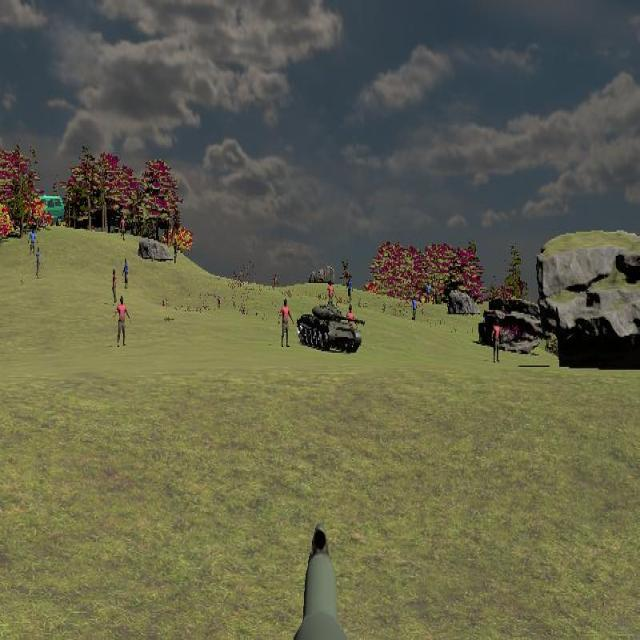Human: (113, 295, 131, 347), (277, 298, 295, 348)
Tank: (297, 304, 365, 354)
